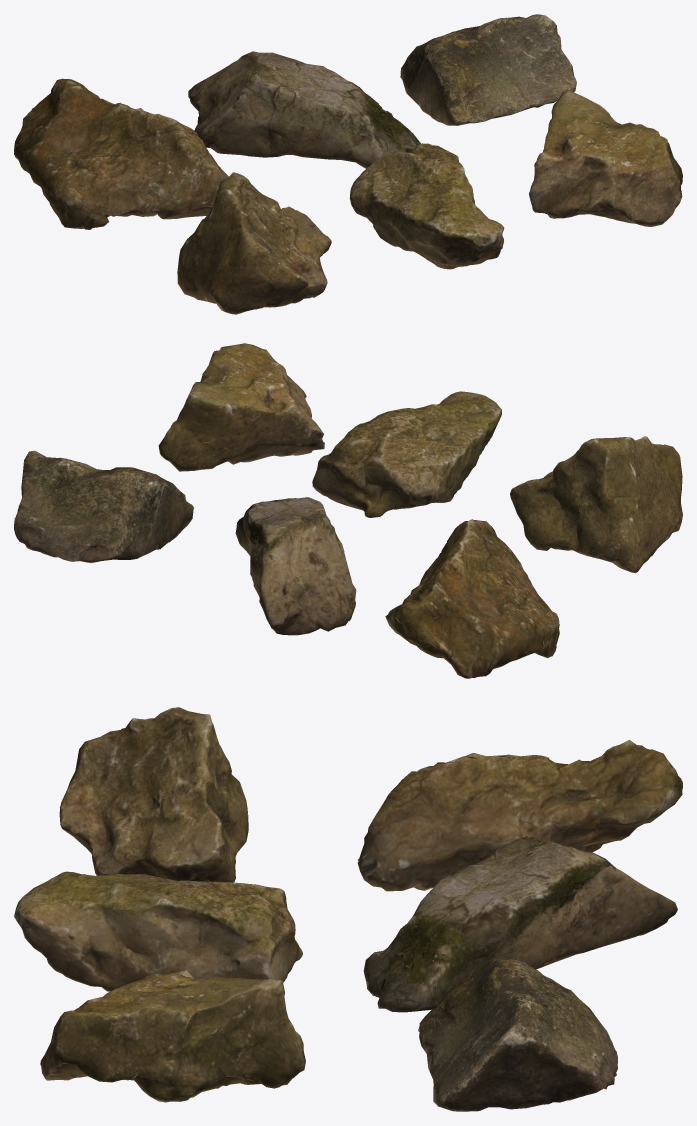
File: rock_moss_set_01.glb
The picture shows the model from 3 angles, top to bottom: view 1: azimuth 30°, elevation 25°; view 2: azimuth 150°, elevation 25°; view 3: azimuth 270°, elevation 25°; orthographic projection. The views are drawn at different scales.
Visible parts, largest first — view 1: rock_moss_set_01_rock01, rock_moss_set_01_rock02, rock_moss_set_01_rock06, rock_moss_set_01_rock04, rock_moss_set_01_rock03, rock_moss_set_01_rock05; view 2: rock_moss_set_01_rock04, rock_moss_set_01_rock01, rock_moss_set_01_rock05, rock_moss_set_01_rock03, rock_moss_set_01_rock06, rock_moss_set_01_rock02; view 3: rock_moss_set_01_rock01, rock_moss_set_01_rock02, rock_moss_set_01_rock05, rock_moss_set_01_rock04, rock_moss_set_01_rock06, rock_moss_set_01_rock03.
Boxes of the visible parts, box(x1,y1,x2,y2) form: rock_moss_set_01_rock01: box(14, 78, 228, 229); rock_moss_set_01_rock02: box(188, 51, 420, 168); rock_moss_set_01_rock06: box(529, 89, 682, 226); rock_moss_set_01_rock04: box(177, 172, 331, 314); rock_moss_set_01_rock03: box(400, 14, 576, 125); rock_moss_set_01_rock05: box(349, 143, 504, 269); rock_moss_set_01_rock04: box(510, 436, 682, 573); rock_moss_set_01_rock01: box(385, 519, 559, 678); rock_moss_set_01_rock05: box(312, 391, 501, 517); rock_moss_set_01_rock03: box(14, 450, 193, 563); rock_moss_set_01_rock06: box(158, 343, 324, 471); rock_moss_set_01_rock02: box(235, 497, 356, 635); rock_moss_set_01_rock01: box(357, 740, 682, 891); rock_moss_set_01_rock02: box(363, 836, 677, 1012); rock_moss_set_01_rock05: box(14, 871, 302, 991); rock_moss_set_01_rock04: box(59, 707, 248, 882); rock_moss_set_01_rock06: box(40, 970, 305, 1102); rock_moss_set_01_rock03: box(418, 956, 617, 1111).
Size of the model in its own units: 8 by 1.77 by 6.95.
1 material, 1 textured.
